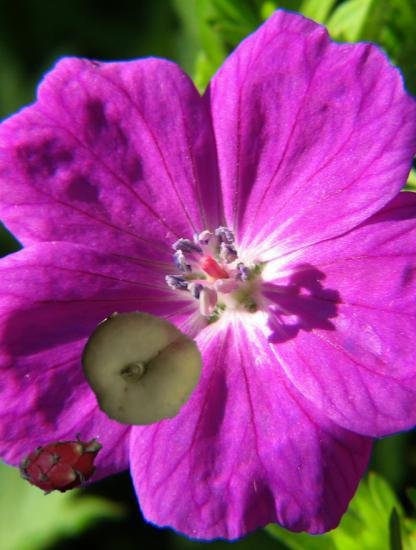Peach: (81, 307, 202, 428)
Pitahaya: (18, 420, 106, 508)
